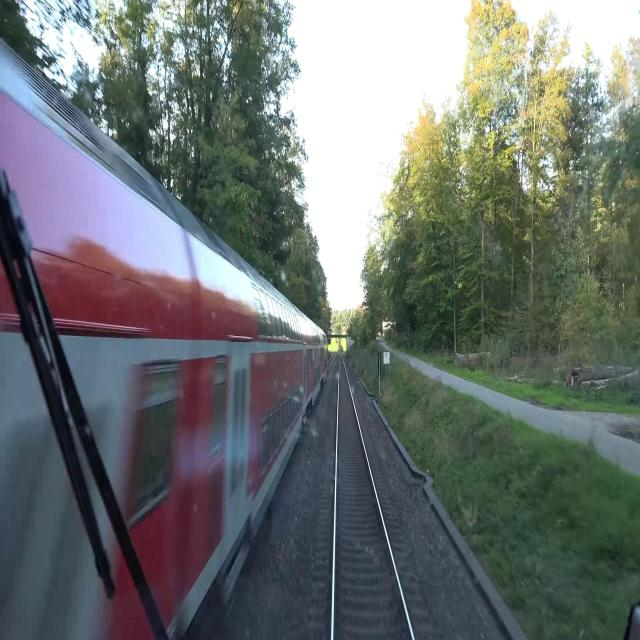rail-track: (336, 360, 410, 639)
